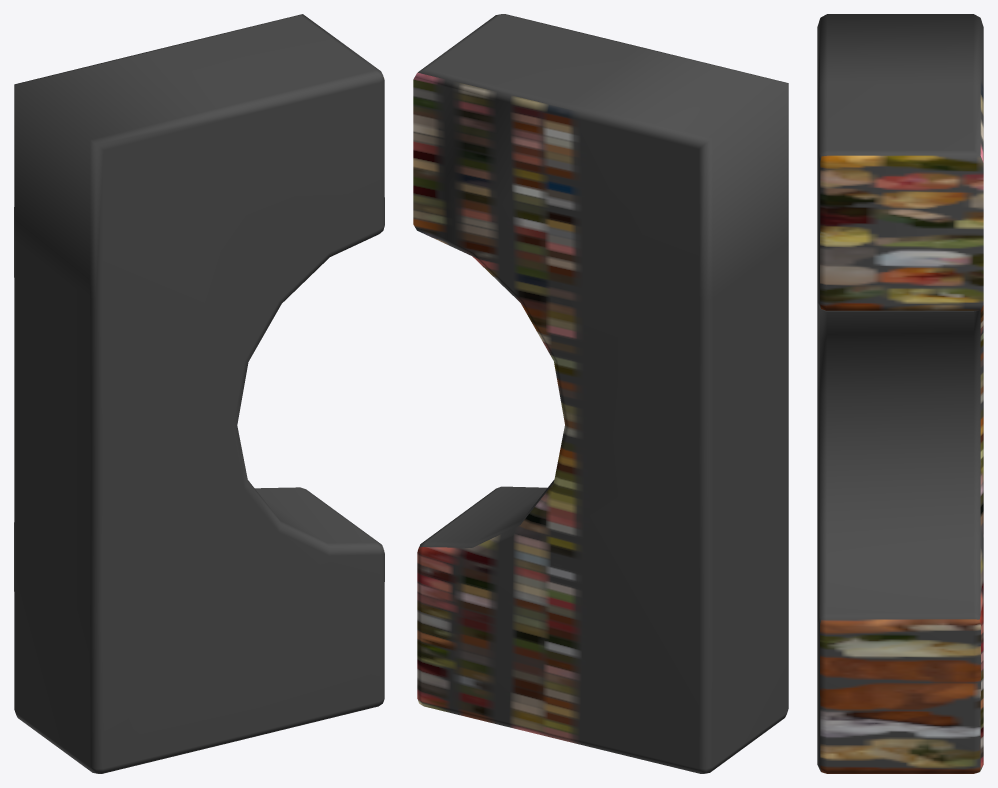
File: arch_block.fbx
3 views of the same model, side by side, from view 1: azimuth 30°, elevation 25°; view 2: azimuth 150°, elevation 25°; view 3: azimuth 270°, elevation 25° (orthographic). The views are drawn at different scales.
Visible parts, largest first — view 1: pCube1; view 2: pCube1; view 3: pCube1.
Part boxes in pixels (x1,y1,x2,y2): pCube1: (14,14,384,773); pCube1: (413,14,788,773); pCube1: (817,14,983,773).
Bounding box in the file's own units: 7 × 14.49 × 3.5.
